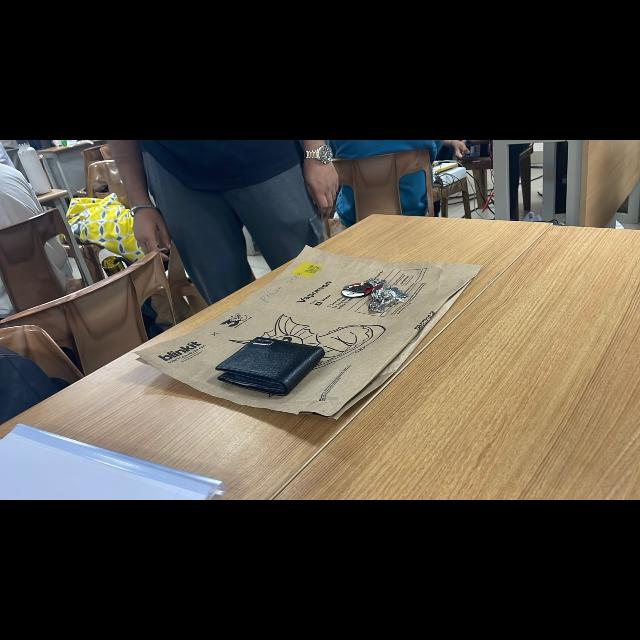keys: (338, 260, 406, 334)
wallet: (212, 328, 330, 394)
